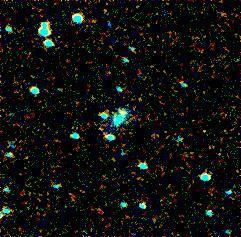star: (107, 101, 137, 131)
